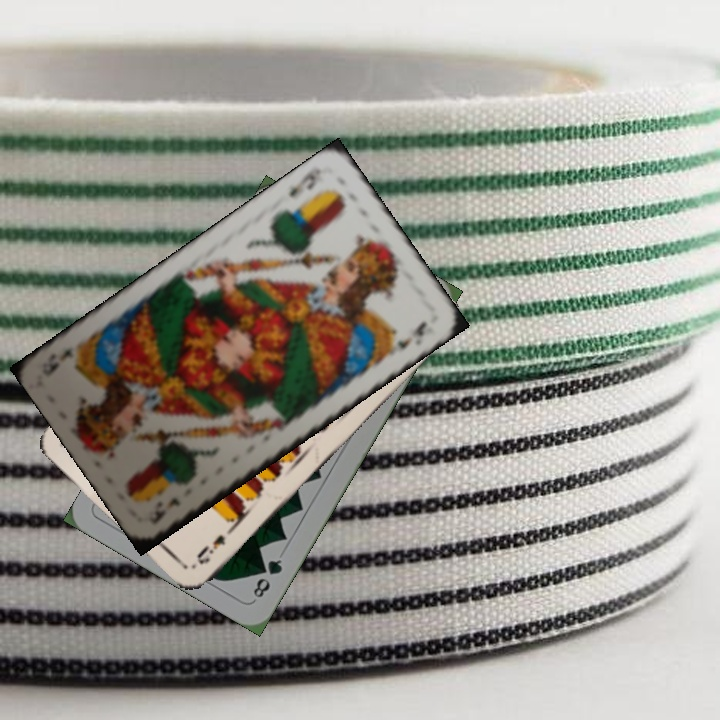E9: (192, 522, 237, 567)
EK: (285, 163, 327, 201), (144, 493, 183, 527)
G8: (249, 555, 285, 601)
